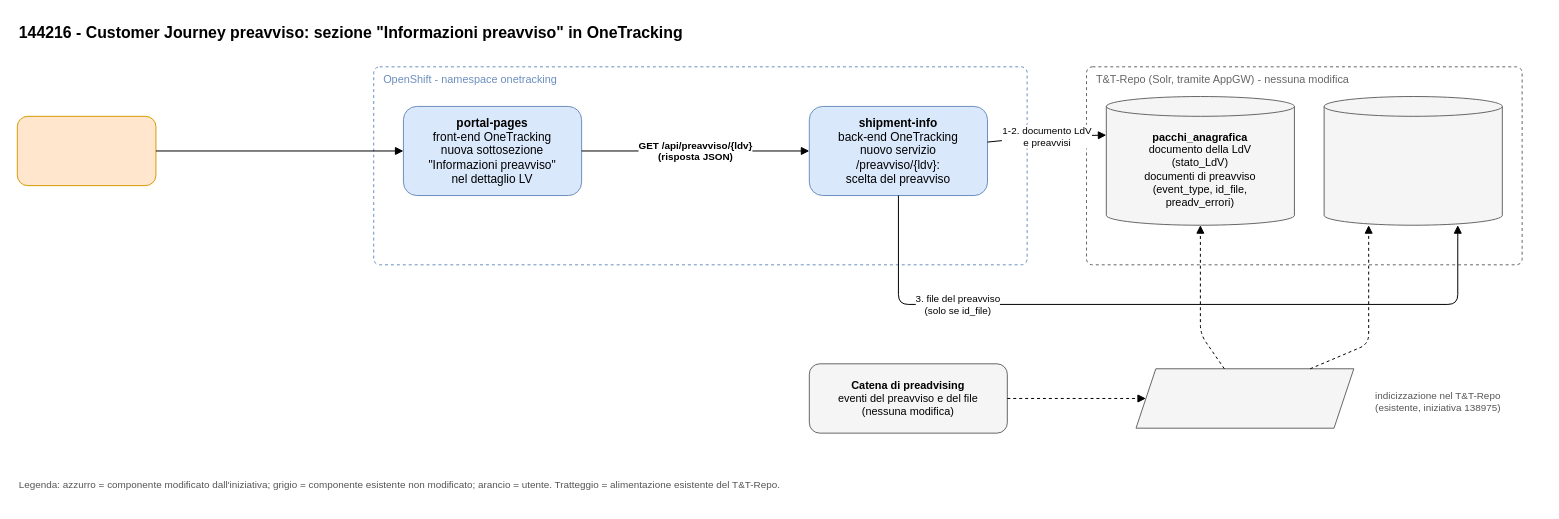
This 1559x519 diagram has some shape labels left out. Each missing label, with the centre of its shape:
"Operatore assistenza clienti ricerca per LdV, dettaglio LV" goes at (86,150).
"pacchi_file file di preavviso (nome, stato, canale, date)" goes at (1412,160).
"topic Kafka preadvising.evensource" goes at (1244,398).
